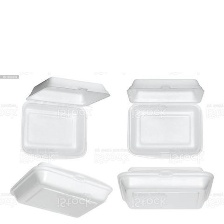foam_box: (15, 73, 113, 164), (122, 76, 208, 163), (6, 160, 114, 220), (113, 162, 216, 216)
